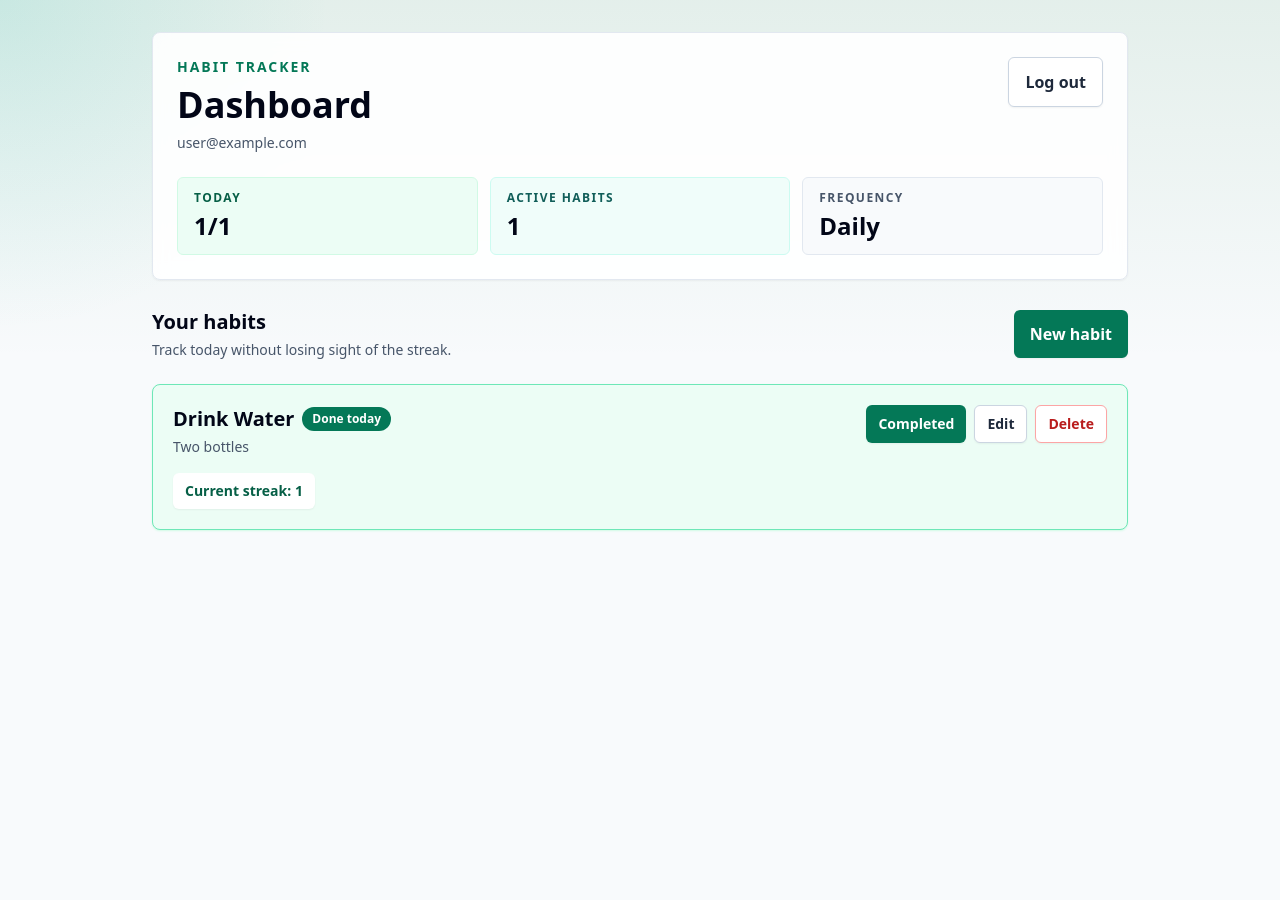
Test case: habit form › edits an existing habit and preserves immutable fields
Click the button with test id "habit-edit-drink-water": (1001, 424) 974,405 -> 1028,443
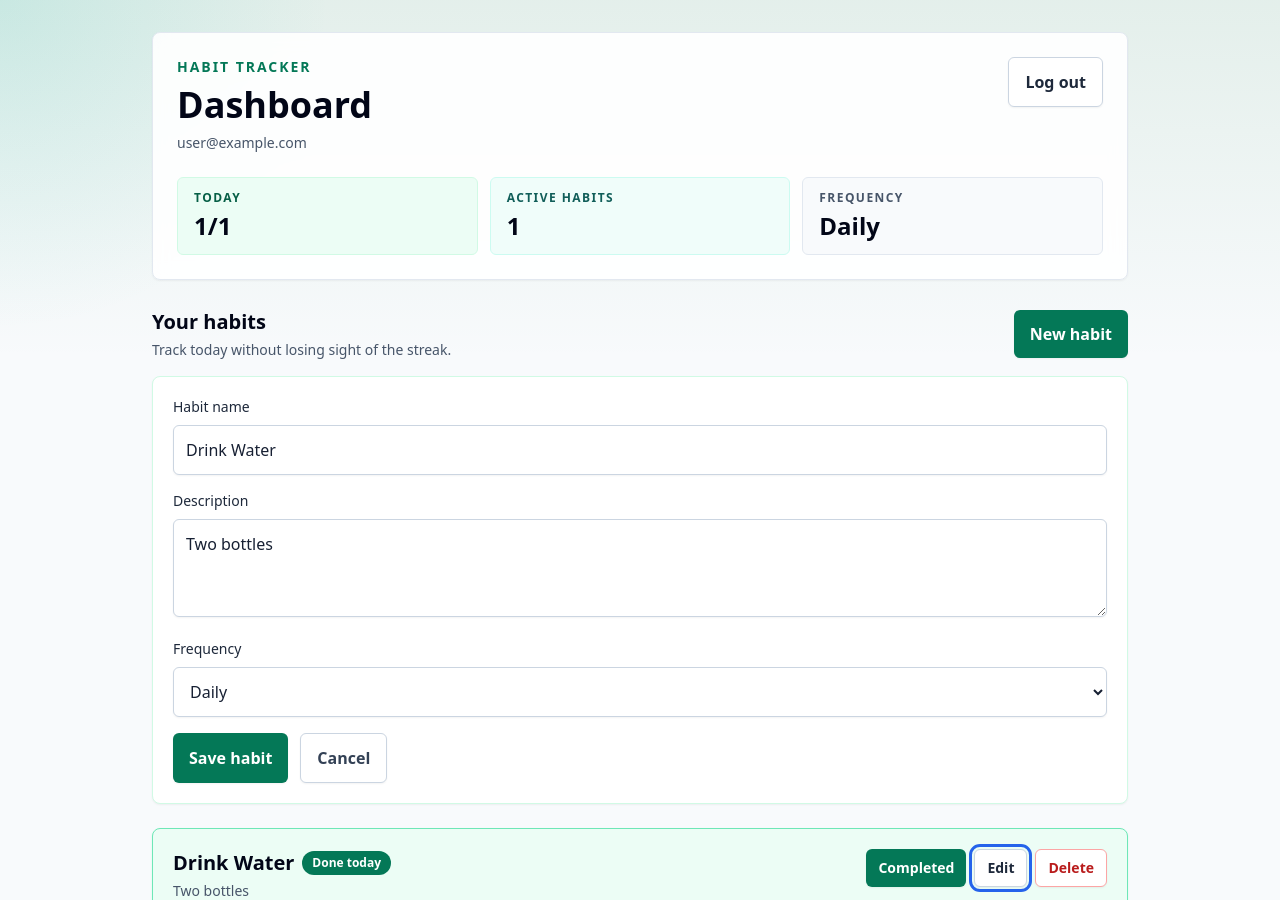
Replace the text in the field with test id "habit-name-input" with "Read Books": (640, 450) 173,425 -> 1107,475
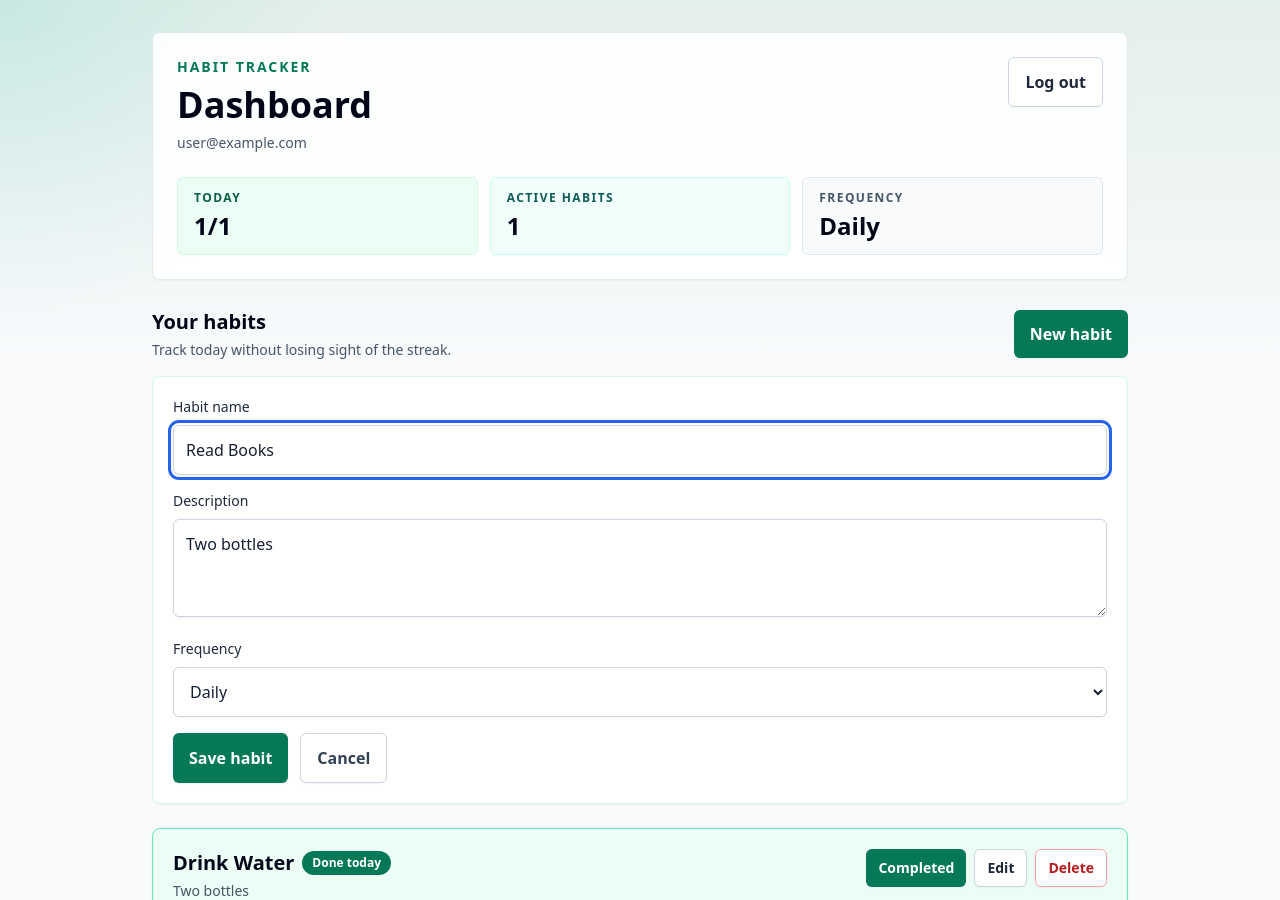
Replace the text in the text box with test id "habit-description-input" with "20 pages": (640, 568) 173,519 -> 1107,617
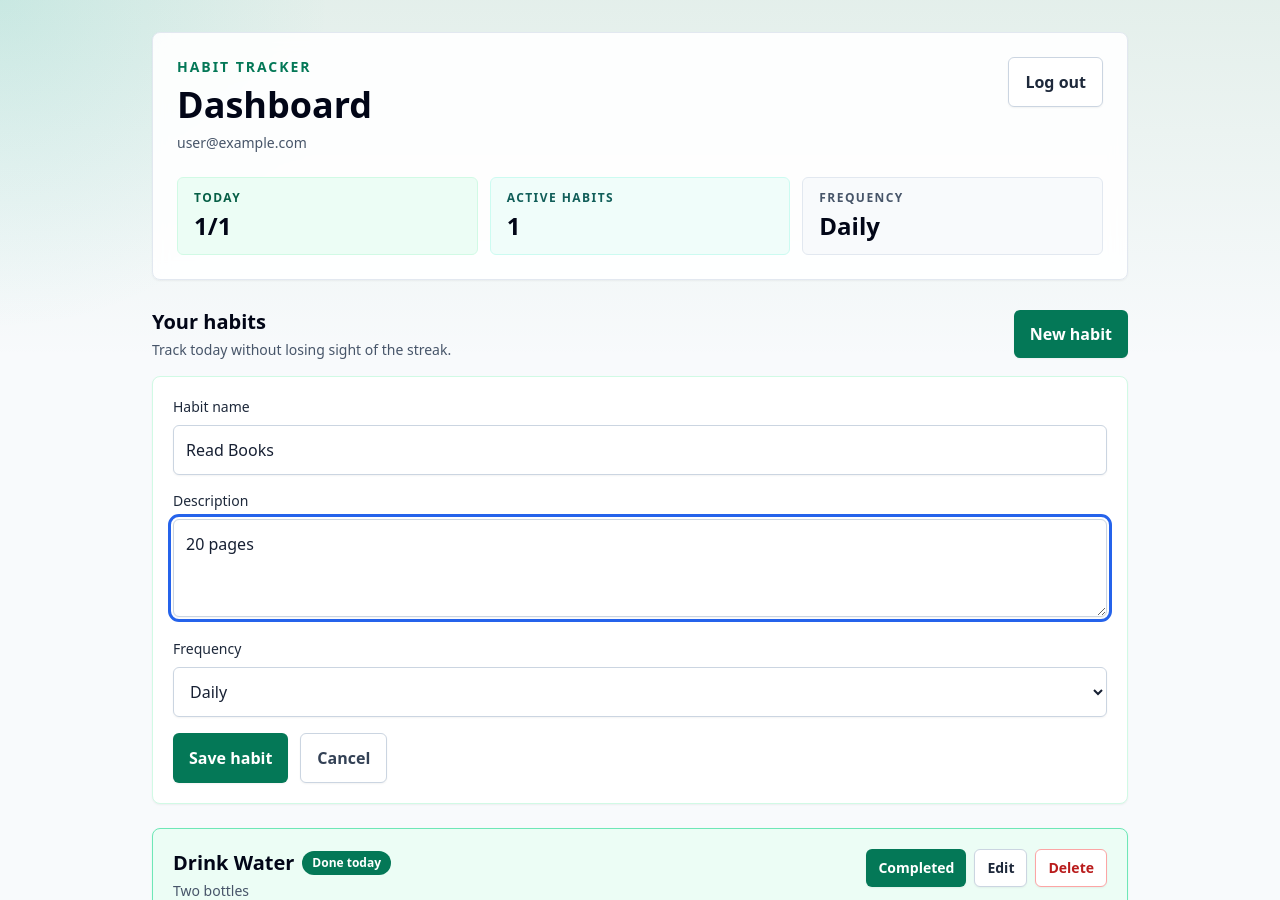
Click the button with test id "habit-save-button": (231, 758) 173,733 -> 288,783
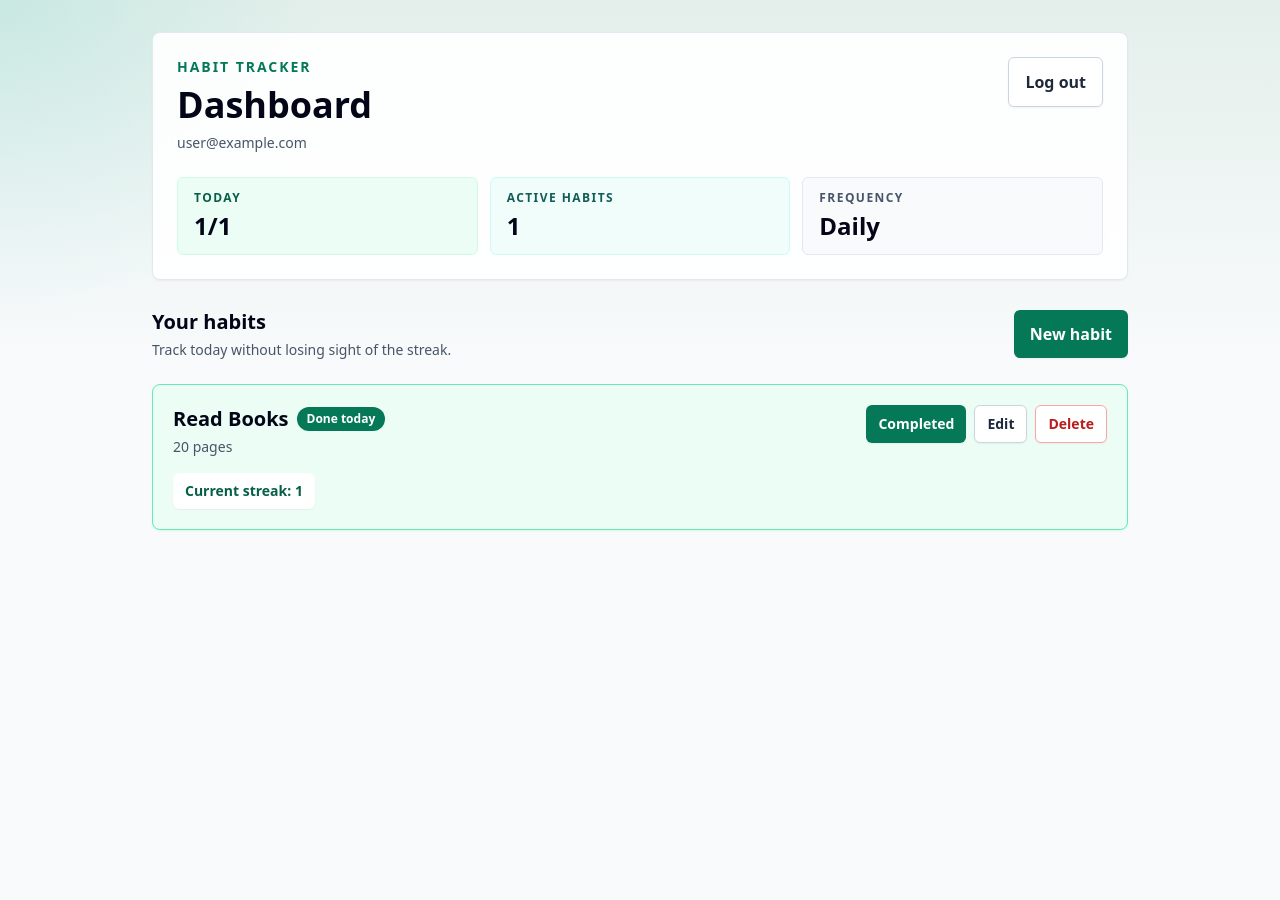
Expected: the element with test id "habit-card-read-books" is shown, 152,384 -> 1128,530
